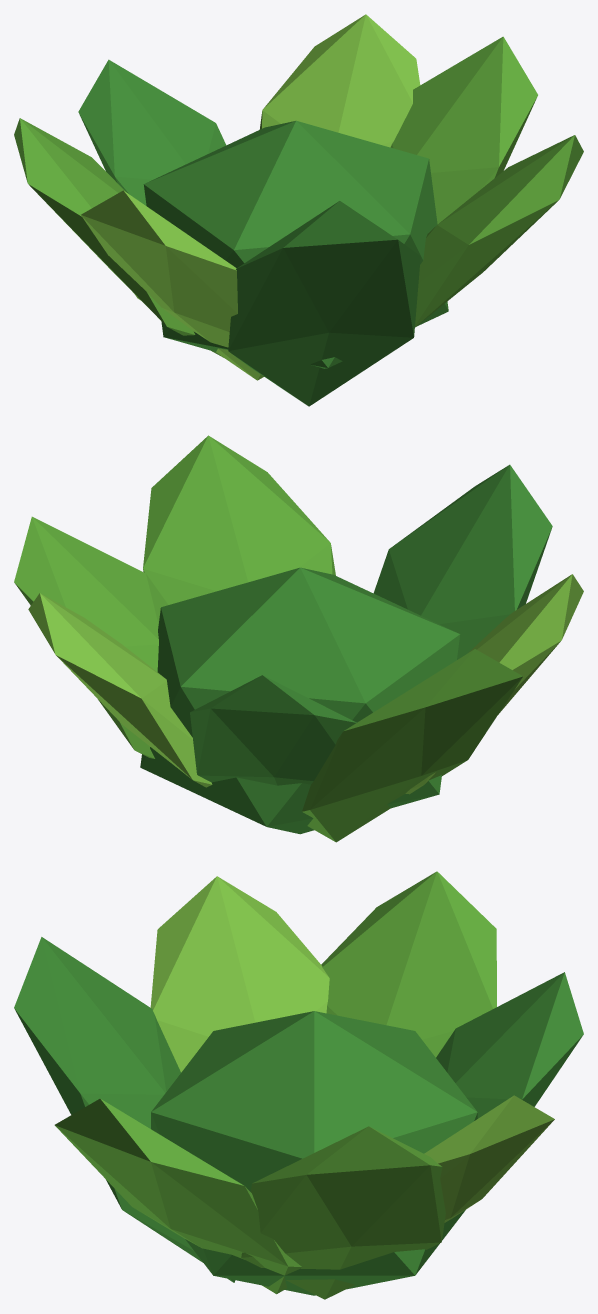
Rendered from leaf_tuft.glb.
The picture shows the model from 3 angles, top to bottom: view 1: azimuth 30°, elevation 25°; view 2: azimuth 150°, elevation 25°; view 3: azimuth 270°, elevation 25°; orthographic projection. The views are drawn at different scales.
Visible parts, largest first — view 1: leaf_tuft; view 2: leaf_tuft; view 3: leaf_tuft.
Boxes of the visible parts, x1,y1,x2,y2 form: leaf_tuft: (14,14,583,406); leaf_tuft: (14,435,583,842); leaf_tuft: (14,871,583,1299).
Bounding box in the file's own units: 0.3904 × 0.22 × 0.3592.
